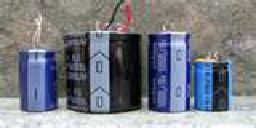Electrolytic-Capacitor: (65, 8, 143, 117), (17, 10, 60, 117), (144, 23, 191, 114), (192, 50, 240, 114)
